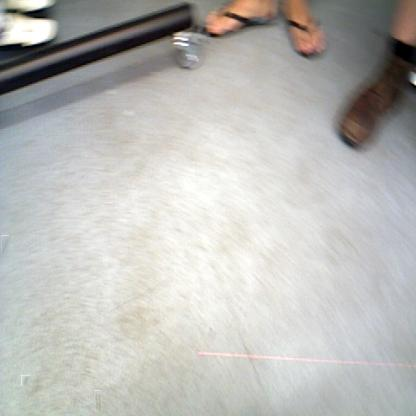mark: (1, 235, 9, 258), (93, 390, 101, 411), (21, 376, 30, 385)
